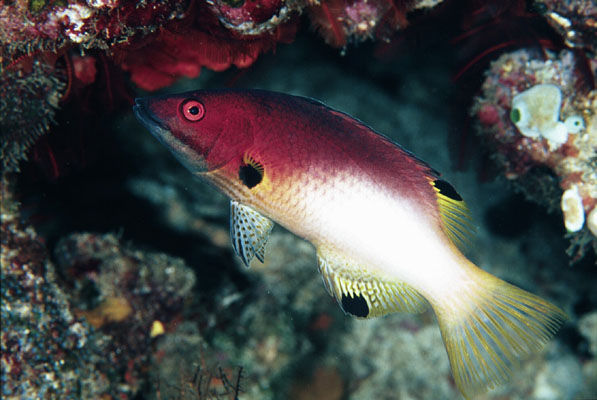fish: (134, 87, 567, 399)
